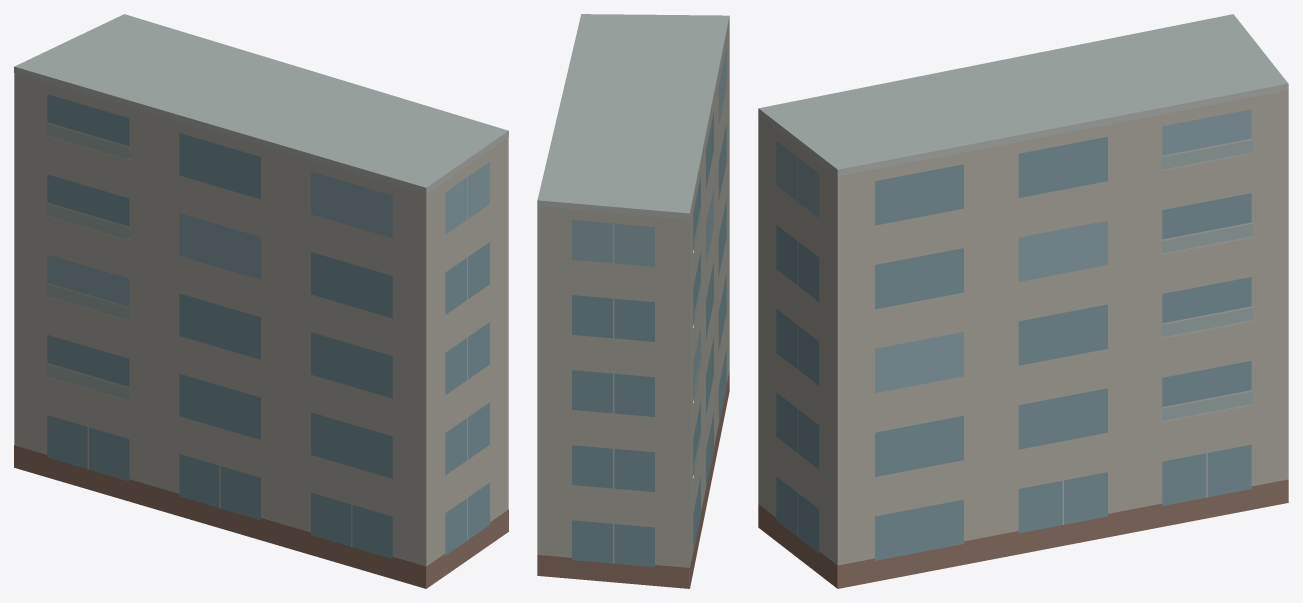
The model's file is residential-45b2c87f-3009-490b-871f-c3eebae8e21a.glb.
3 views of the same model, side by side, from view 1: azimuth 30°, elevation 25°; view 2: azimuth 150°, elevation 25°; view 3: azimuth 270°, elevation 25° (orthographic). The views are drawn at different scales.
Parts seen in each view (by area): view 1: residential-45b2c87f-3009-490b-871f-c3eebae8e21a.tmp; view 2: residential-45b2c87f-3009-490b-871f-c3eebae8e21a.tmp; view 3: residential-45b2c87f-3009-490b-871f-c3eebae8e21a.tmp.
Part boxes in pixels (left/top/right/bottom): residential-45b2c87f-3009-490b-871f-c3eebae8e21a.tmp: left=14, top=14, right=508, bottom=588; residential-45b2c87f-3009-490b-871f-c3eebae8e21a.tmp: left=537, top=14, right=729, bottom=588; residential-45b2c87f-3009-490b-871f-c3eebae8e21a.tmp: left=758, top=14, right=1288, bottom=588.
Size of the model in its own units: 12.16 by 15.25 by 17.49.
